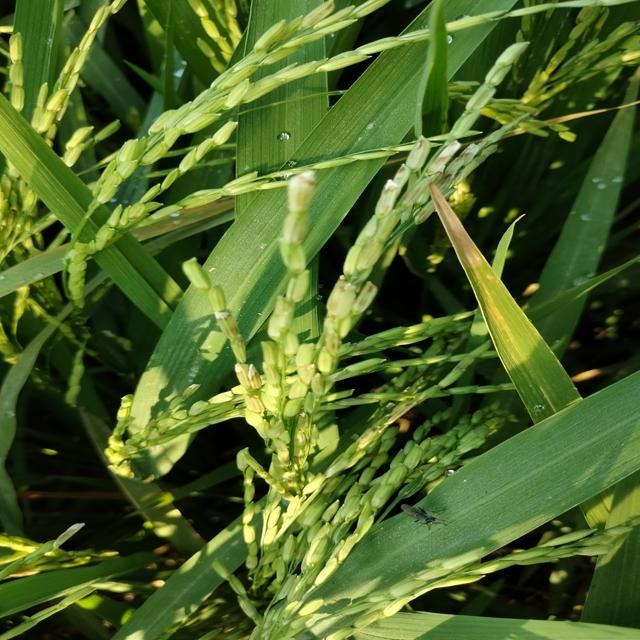healthy: (422, 174, 509, 300)
